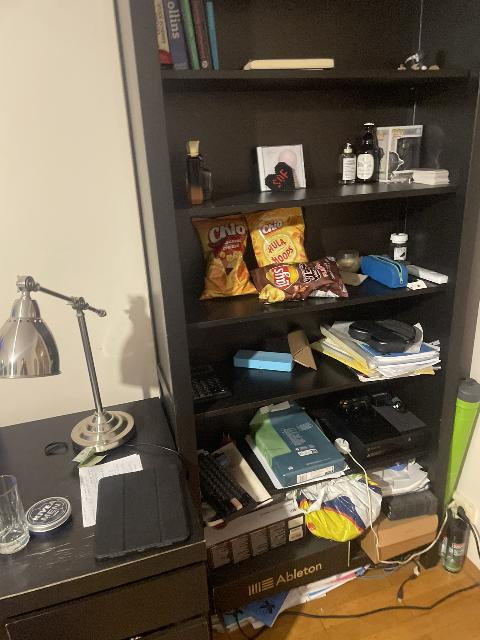Chio Cascaval 125g: (191, 214, 256, 300)
Chio Hula Hoops Cheese 70g: (245, 208, 308, 270)
Lays Beef Grilled Ribs 125g: (249, 257, 343, 303)
